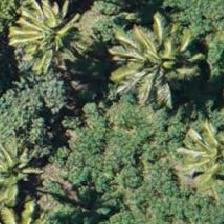coconut_tree: (124, 23, 214, 113), (0, 133, 71, 223), (160, 119, 223, 209), (0, 0, 75, 66)
